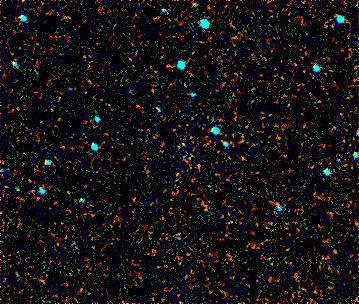star: (184, 154, 214, 184)
